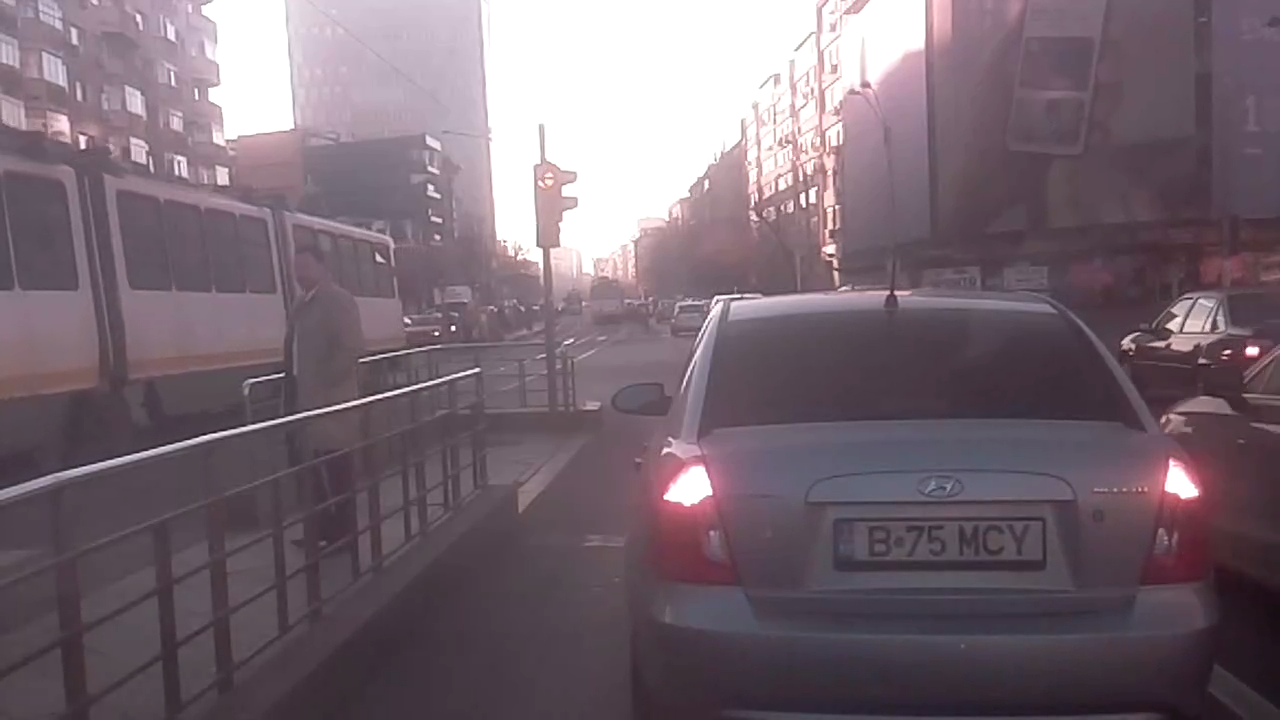license-plate: (828, 510, 1052, 574)
